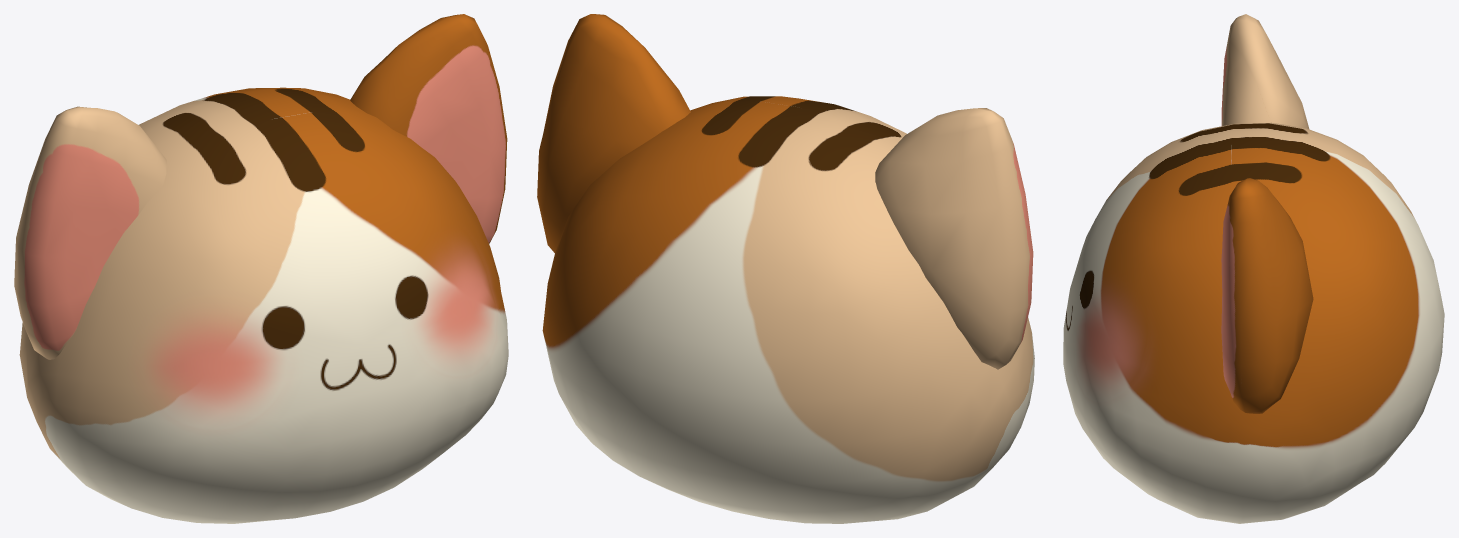
Rendered from ball10.fbx.
3 views of the same model, side by side, from view 1: azimuth 30°, elevation 25°; view 2: azimuth 150°, elevation 25°; view 3: azimuth 270°, elevation 25° (orthographic). The views are drawn at different scales.
Parts seen in each view (by area): view 1: LowPolySphere3; view 2: LowPolySphere3; view 3: LowPolySphere3.
Part boxes in pixels (bbox=[...]): LowPolySphere3: bbox=[14, 14, 508, 523]; LowPolySphere3: bbox=[537, 14, 1034, 523]; LowPolySphere3: bbox=[1063, 14, 1444, 523].
Bounding box in the file's own units: 116 × 98.72 × 88.9.
